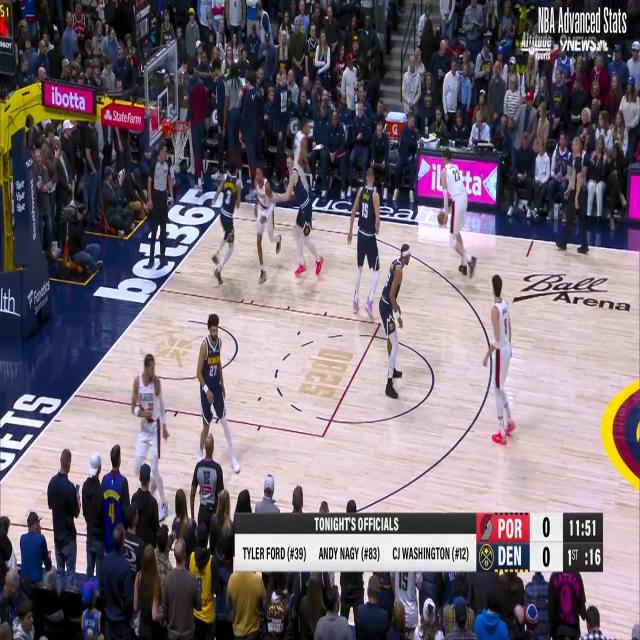ball: (436, 208, 448, 229)
judge: (559, 135, 589, 261), (146, 143, 173, 271), (190, 445, 224, 542)
player: (196, 314, 245, 473), (276, 133, 322, 287), (346, 169, 384, 322), (482, 275, 515, 444), (131, 369, 170, 510), (439, 144, 477, 276), (380, 249, 410, 397), (212, 156, 243, 286), (250, 163, 280, 283), (286, 116, 318, 225)
